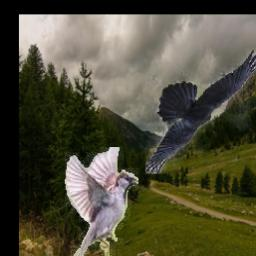Crow: (144, 48, 256, 174)
Sparrow: (64, 147, 138, 256)
